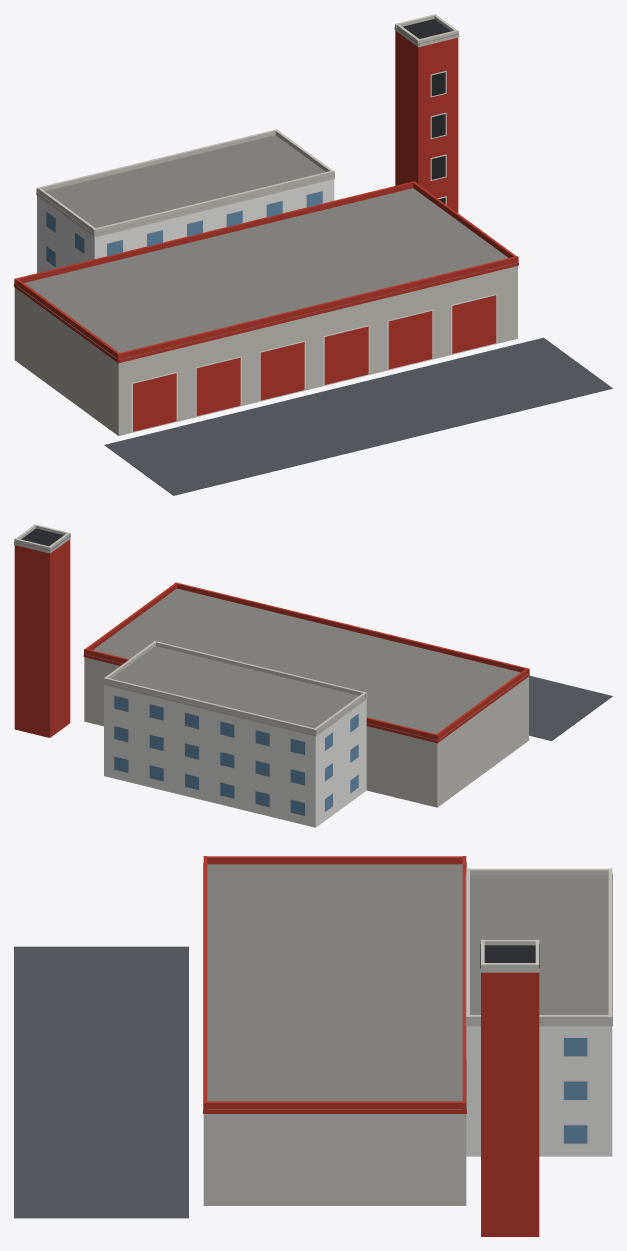
Rendered from caserne_pompiers.glb.
3 renders of one model, top to bottom at view 1: azimuth 30°, elevation 25°; view 2: azimuth 150°, elevation 25°; view 3: azimuth 270°, elevation 25°, orthographic. The views are drawn at different scales.
Parts seen in each view (by area): view 1: caserne_pompiers; view 2: caserne_pompiers; view 3: caserne_pompiers.
Part boxes in pixels (box(x1,y1,x2,y2)): caserne_pompiers: box(14, 14, 612, 495); caserne_pompiers: box(14, 524, 612, 827); caserne_pompiers: box(14, 856, 612, 1236).
Bounding box in the file's own units: 47.05 × 20.6 × 41.05.
Materials: 1 (1 with a texture image).
